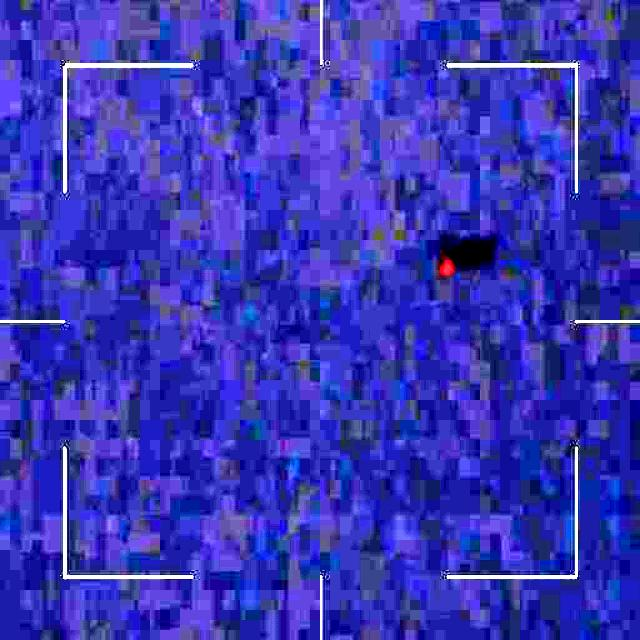bird: (436, 242, 460, 286)
